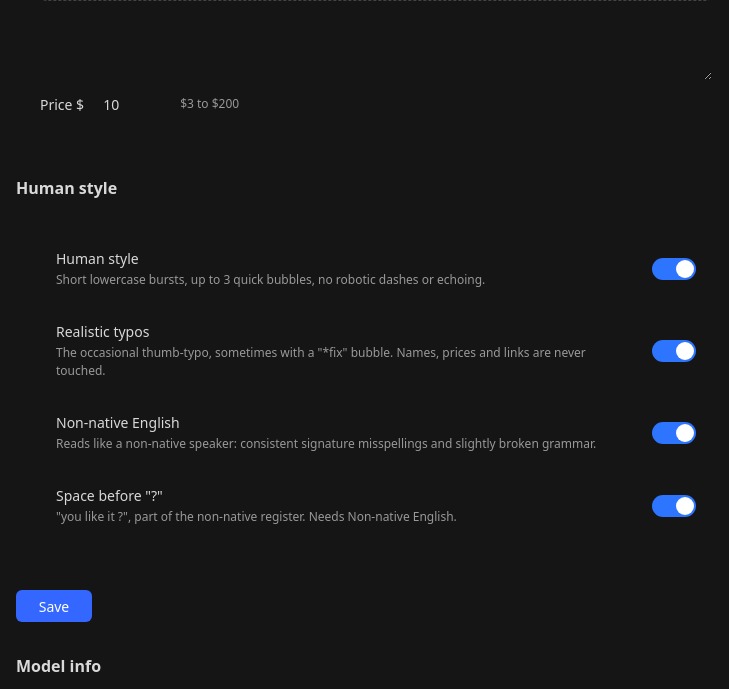
Test: Get to know fans › keeps a style box toggled while the style save is in flight
The width and height of the screenshot is (729, 689).
(page scrolled)
Click the switch named "Realistic typos": (674, 350) [652,340,696,362]
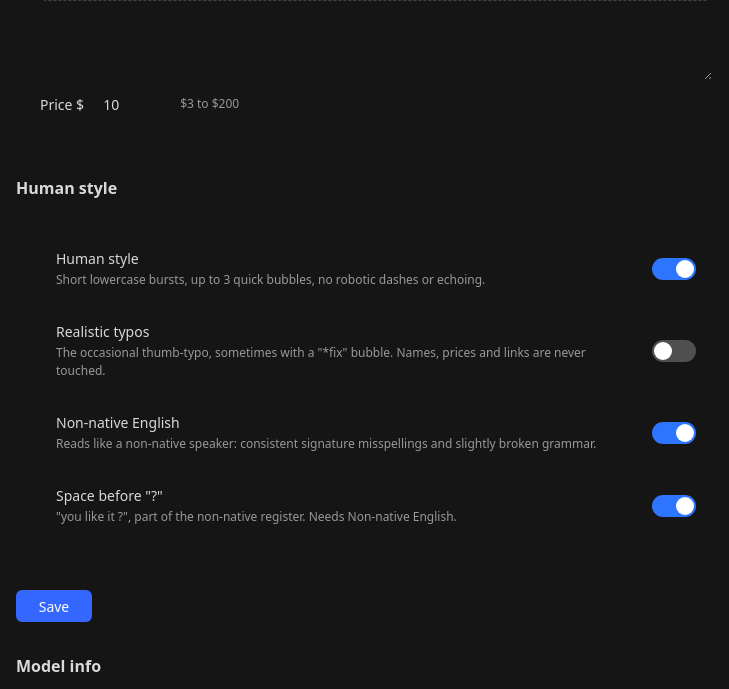
Click the button "Save": (54, 606) [16,590,92,622]
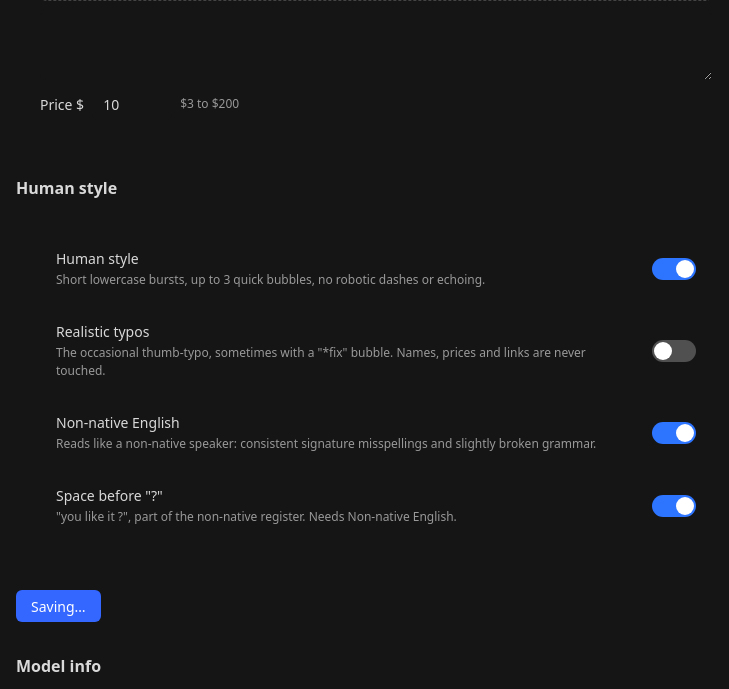
Click the switch named "Human style": (674, 268) [652,258,696,280]
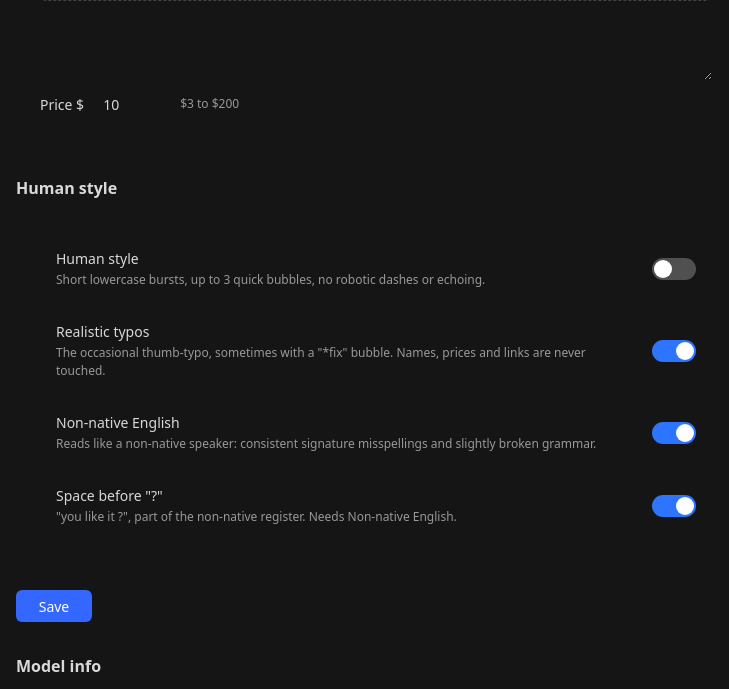
expect the text "Saved" is not shown: met
expect the switch named "Human style" is not checked: met, box [652,258,696,280]
expect the button "Save" is enabled: met
Click the button "Save": (54, 606) [16,590,92,622]
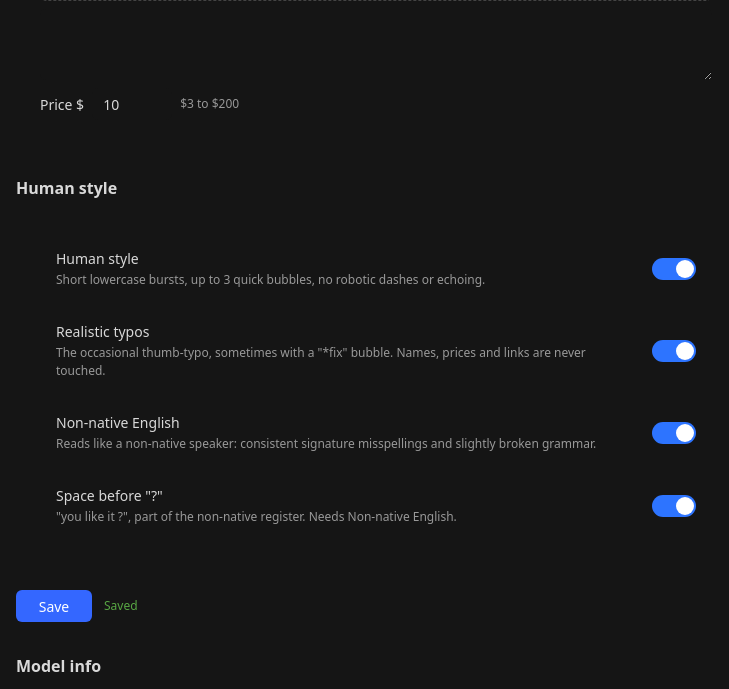
expect the text "Saved" is shown: met, box [104,597,138,615]
